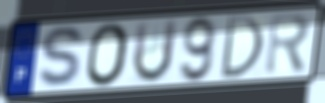9: (179, 16, 217, 84)
D: (217, 14, 266, 81)
O: (85, 21, 131, 88)
R: (263, 11, 313, 78)
S: (36, 25, 88, 91)
U: (130, 17, 180, 86)
